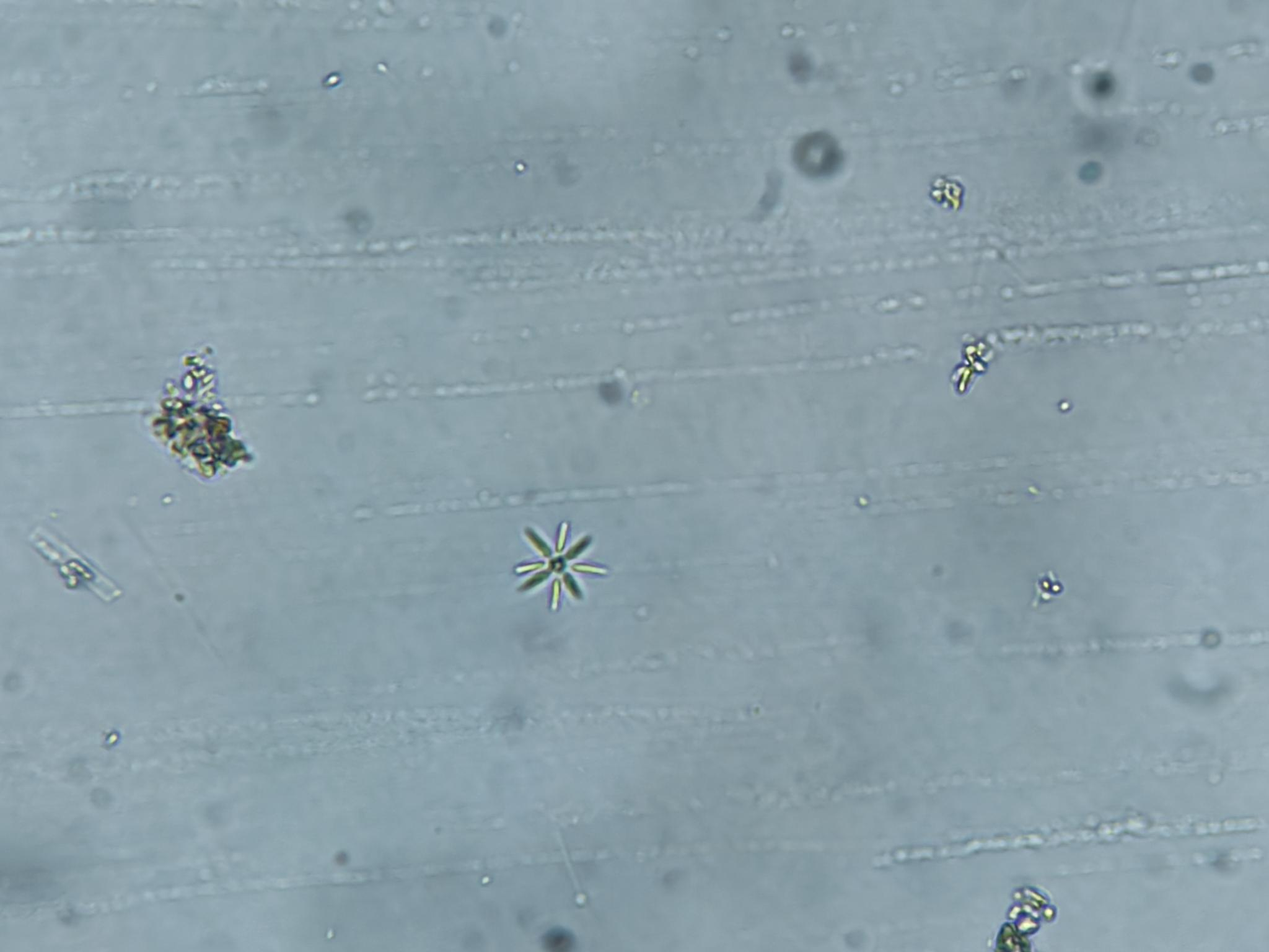Scenedesmus: (485, 507, 614, 618)
